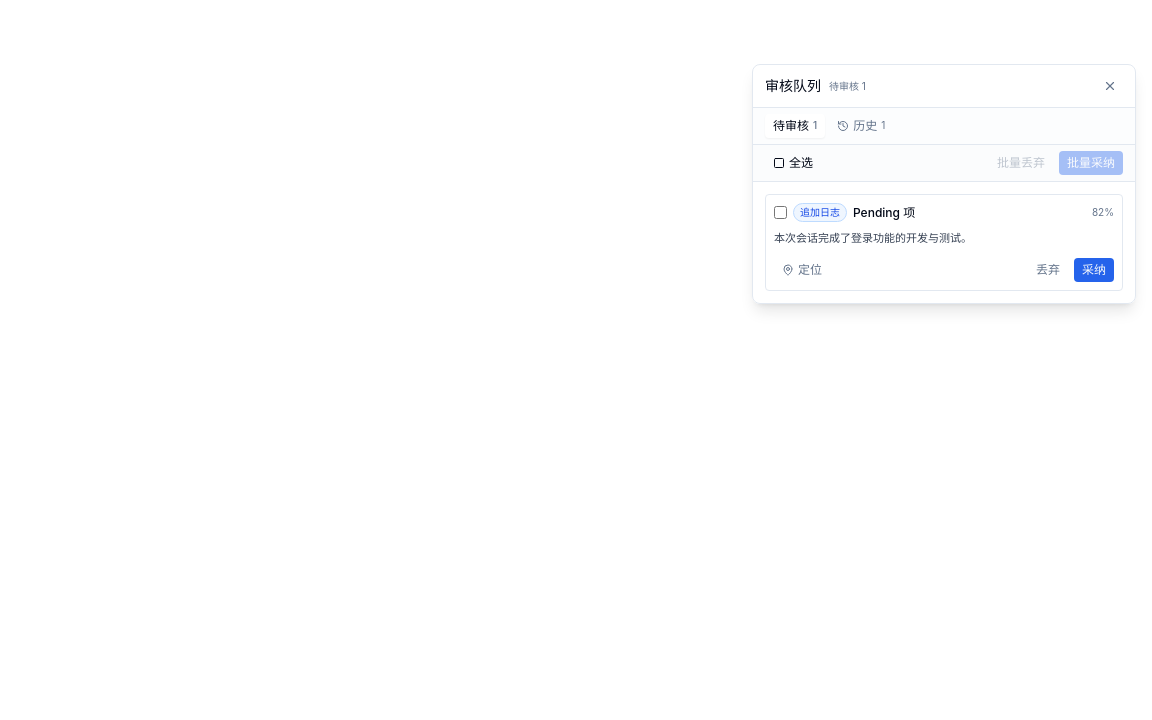
Test case: WritebackPanel — Tabs (Pending / History) › clicking 历史 tab switches view and hides pending items
Click the tab with test id "tab-history" at (861, 126), box [829,114,893,138]
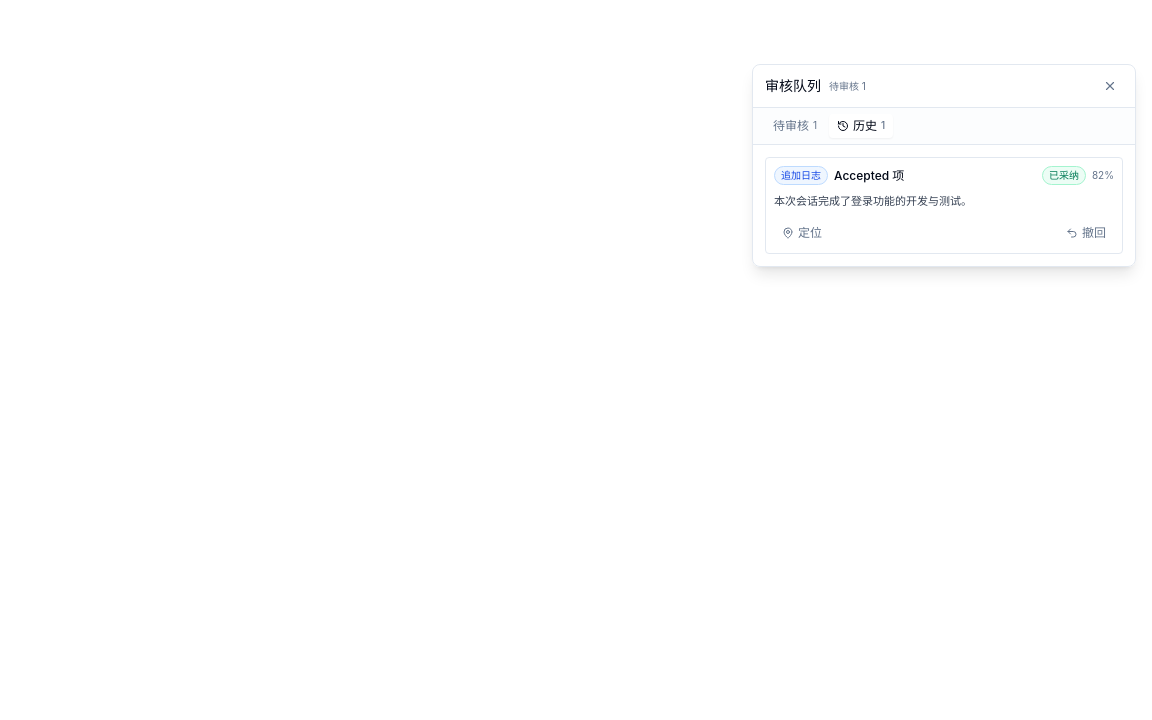
Expected: the text "Pending 项" is gone
Expected: the text "Accepted 项" is shown, [834,168,904,183]
